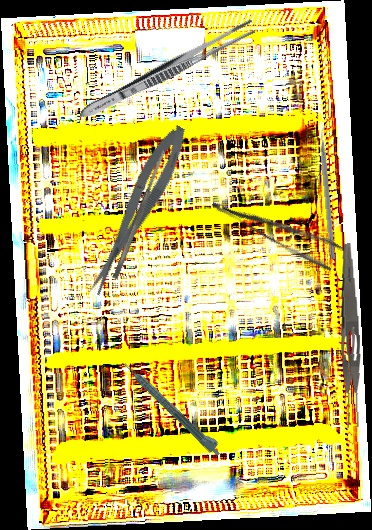Chopper: (318, 123, 343, 260)
Dressing Forceps: (76, 16, 258, 124), (210, 180, 344, 275), (333, 243, 365, 428)
Handpiece: (121, 356, 226, 459)
Micro Scissor: (77, 120, 196, 299)
Spatula Surgical: (111, 149, 168, 280)
